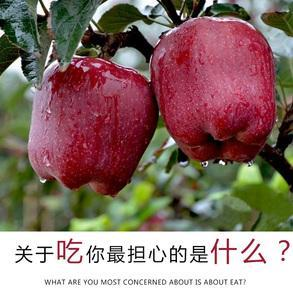apple: (150, 15, 276, 164), (28, 56, 158, 199)
